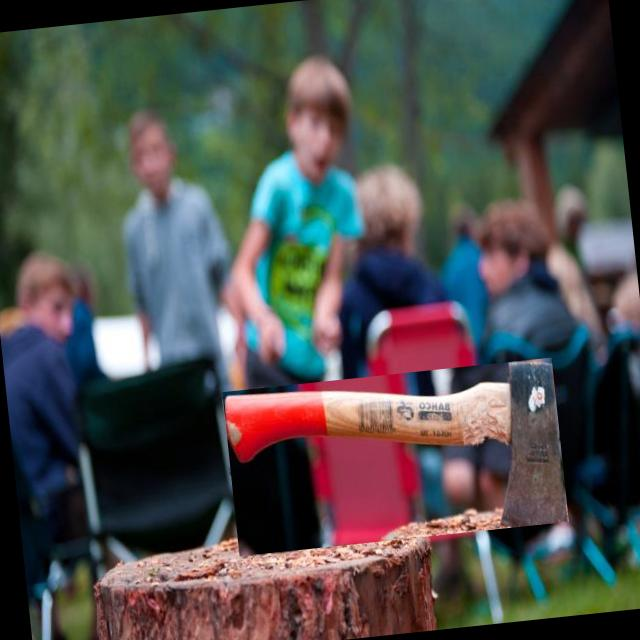Axe: (225, 362, 567, 527)
